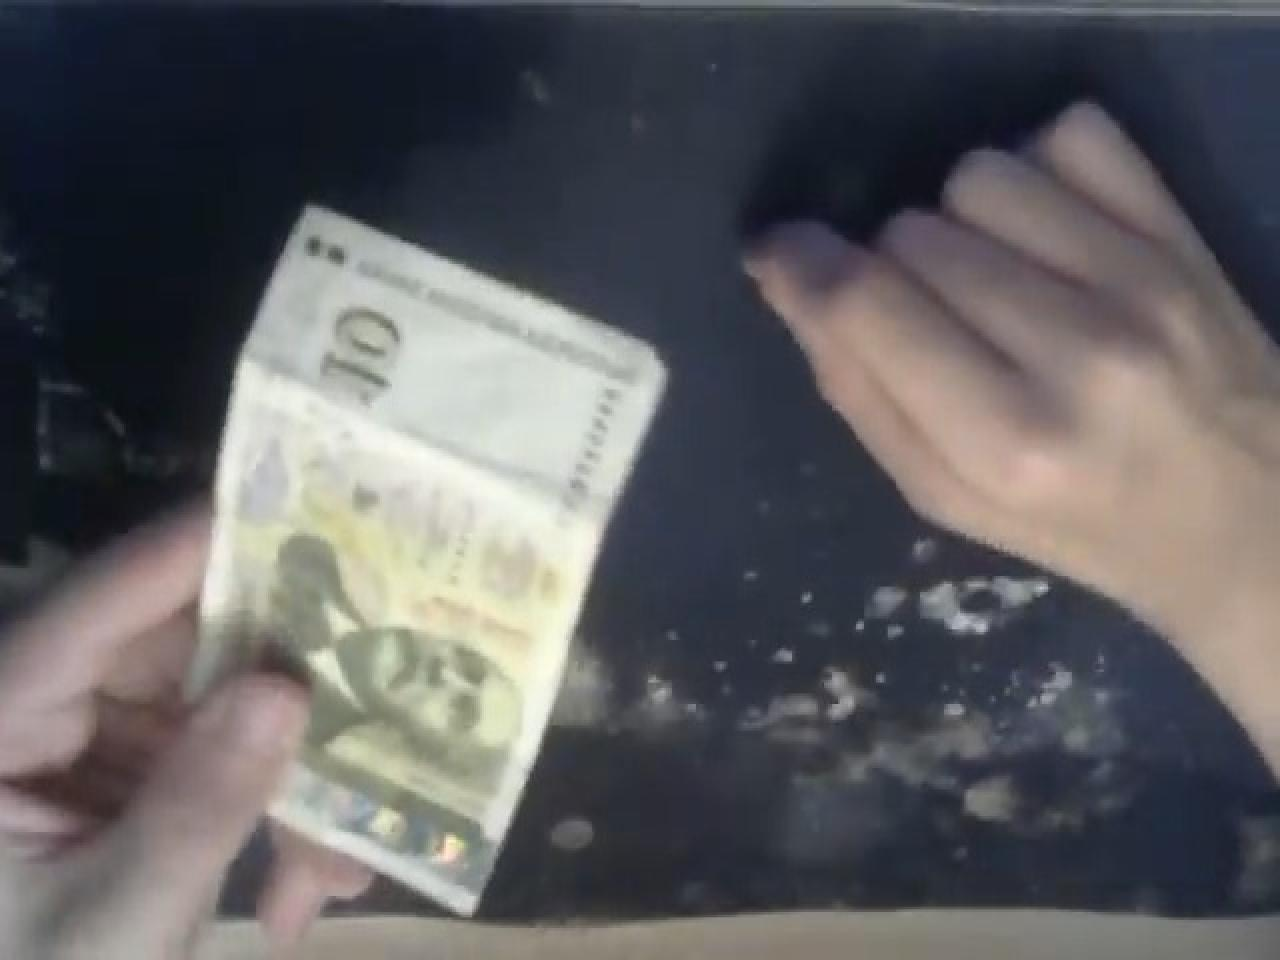10leva: (295, 278, 421, 426)
